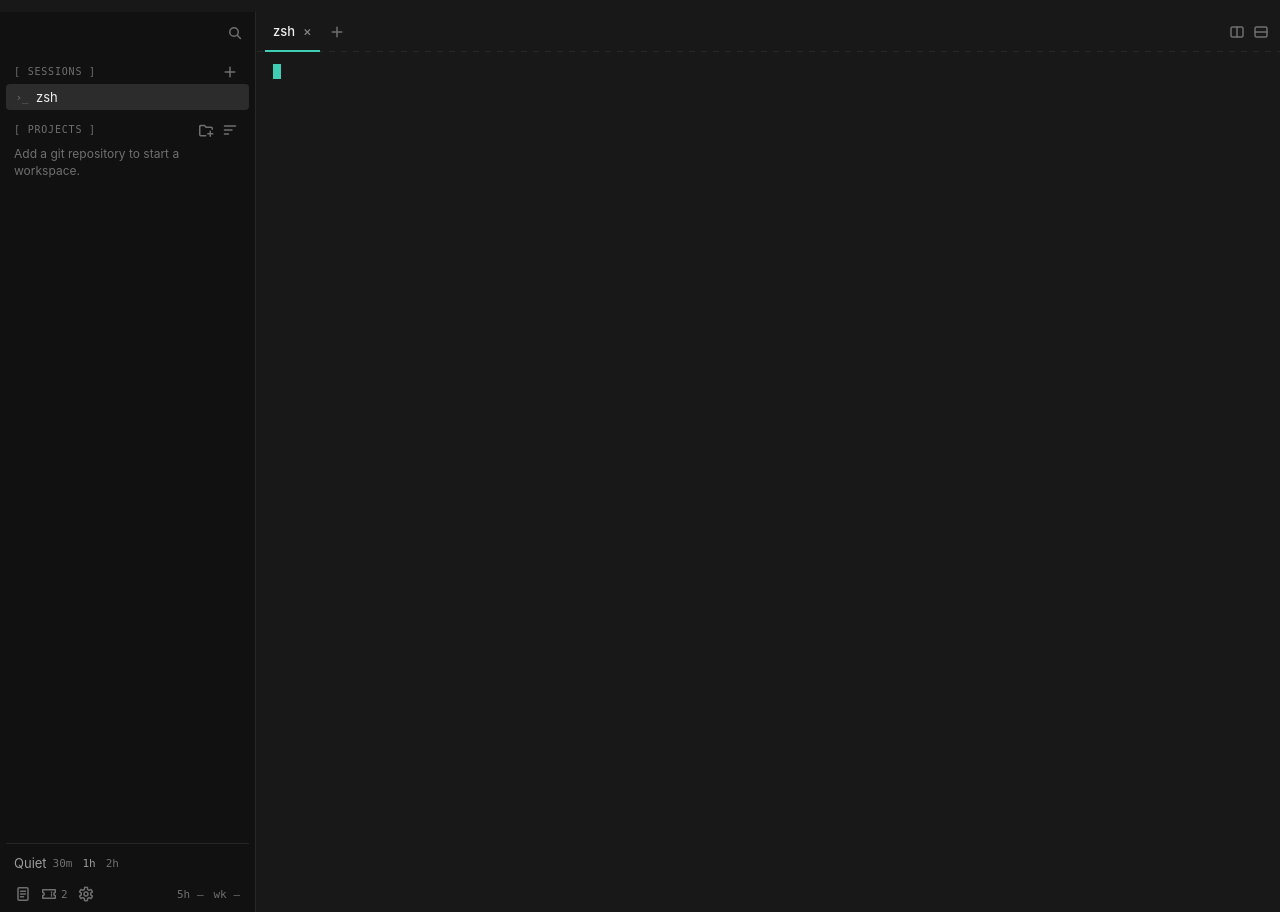
Test: TicketsView › rendering › lists the tickets in order with key link, status, priority and age, done ones last
What coordinates should you click on to do the following:
click the button named "Tickets"
I would click on:
 (54, 894)
Its box is [37,883,72,905].
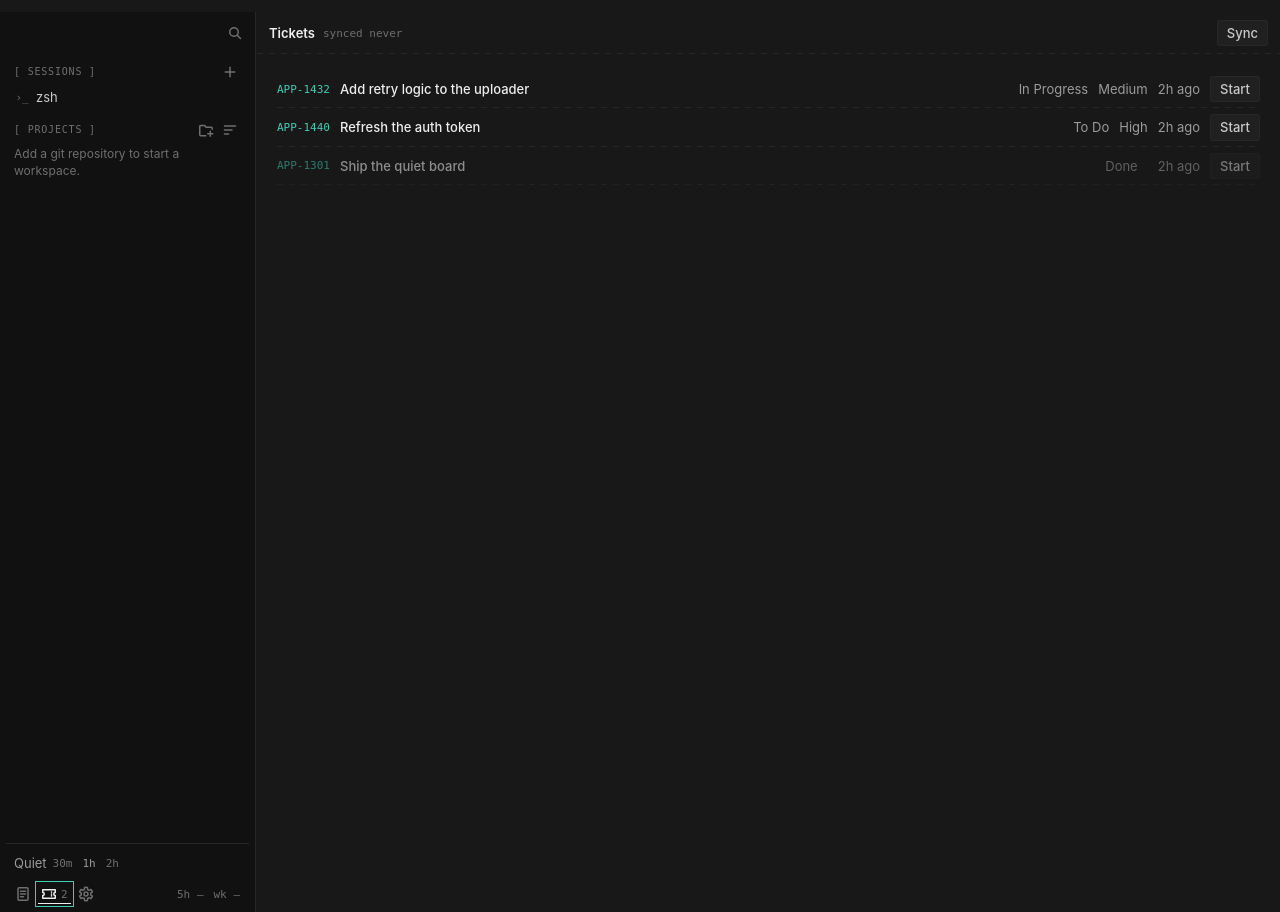
Expected: the list item with test id "ticket-APP-1432" shows "Add retry logic to the uploader", [340,81,529,97]
Expected: the list item with test id "ticket-APP-1432" shows "In Progress", [1019,81,1088,97]
Expected: the list item with test id "ticket-APP-1432" shows "Medium", [1098,81,1148,97]
